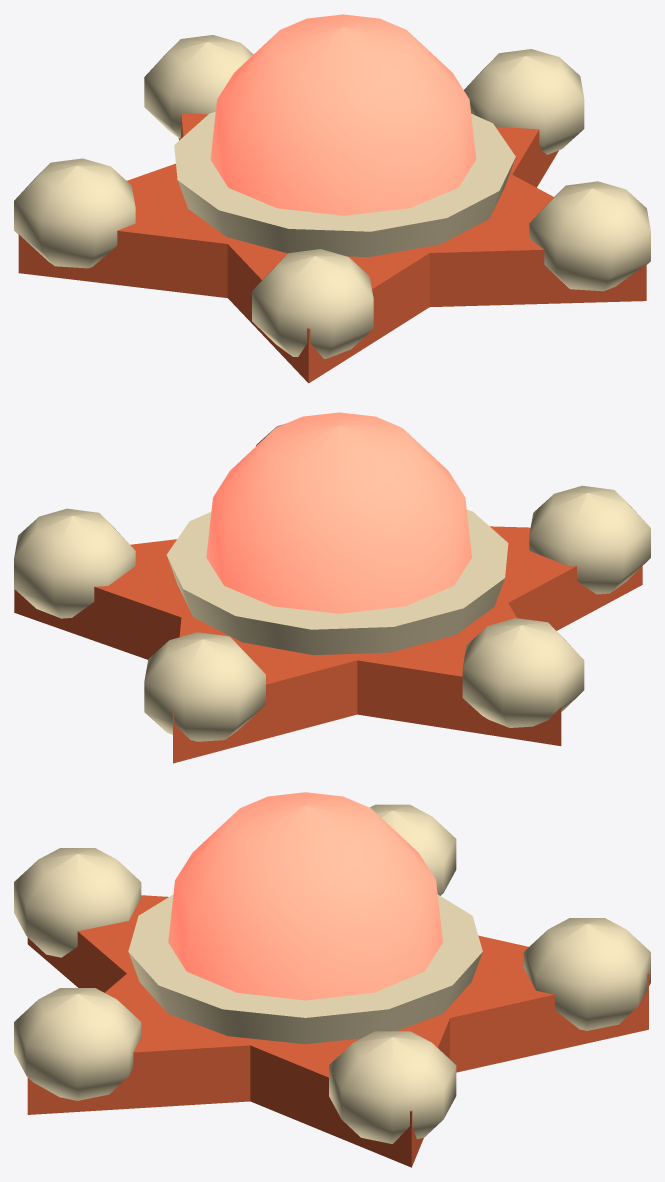
File: R4D_ExplosiveTrap_LOD1.fbx
The picture shows the model from 3 angles, top to bottom: view 1: azimuth 30°, elevation 25°; view 2: azimuth 150°, elevation 25°; view 3: azimuth 270°, elevation 25°; orthographic projection. The views are drawn at different scales.
Visible parts, largest first — view 1: R4D_ExplosiveTrap_LOD1; view 2: R4D_ExplosiveTrap_LOD1; view 3: R4D_ExplosiveTrap_LOD1.
Part boxes in pixels (left/top/right/bottom): R4D_ExplosiveTrap_LOD1: left=14, top=14, right=650, bottom=383; R4D_ExplosiveTrap_LOD1: left=14, top=412, right=650, bottom=763; R4D_ExplosiveTrap_LOD1: left=14, top=792, right=650, bottom=1167.
Size of the model in its own units: 0.4803 by 0.18 by 0.4636.
